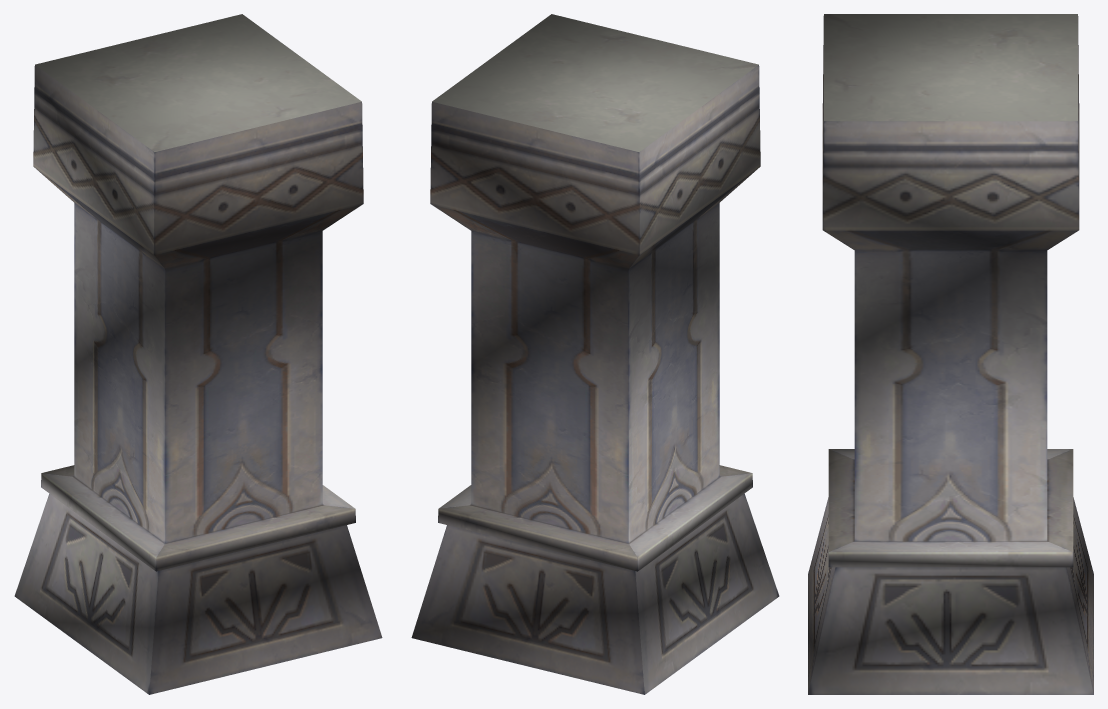
File: Recruit_Pillars_01.FBX
3 views of the same model, side by side, from view 1: azimuth 30°, elevation 25°; view 2: azimuth 150°, elevation 25°; view 3: azimuth 270°, elevation 25° (orthographic). The views are drawn at different scales.
Parts seen in each view (by area): view 1: Recruit_Pillars_01; view 2: Recruit_Pillars_01; view 3: Recruit_Pillars_01.
Part boxes in pixels (box(x1,y1,x2,y2)): Recruit_Pillars_01: box(14, 14, 382, 694); Recruit_Pillars_01: box(411, 14, 779, 694); Recruit_Pillars_01: box(808, 14, 1093, 694).
Size of the model in its own units: 1.59 by 3.48 by 1.59.
